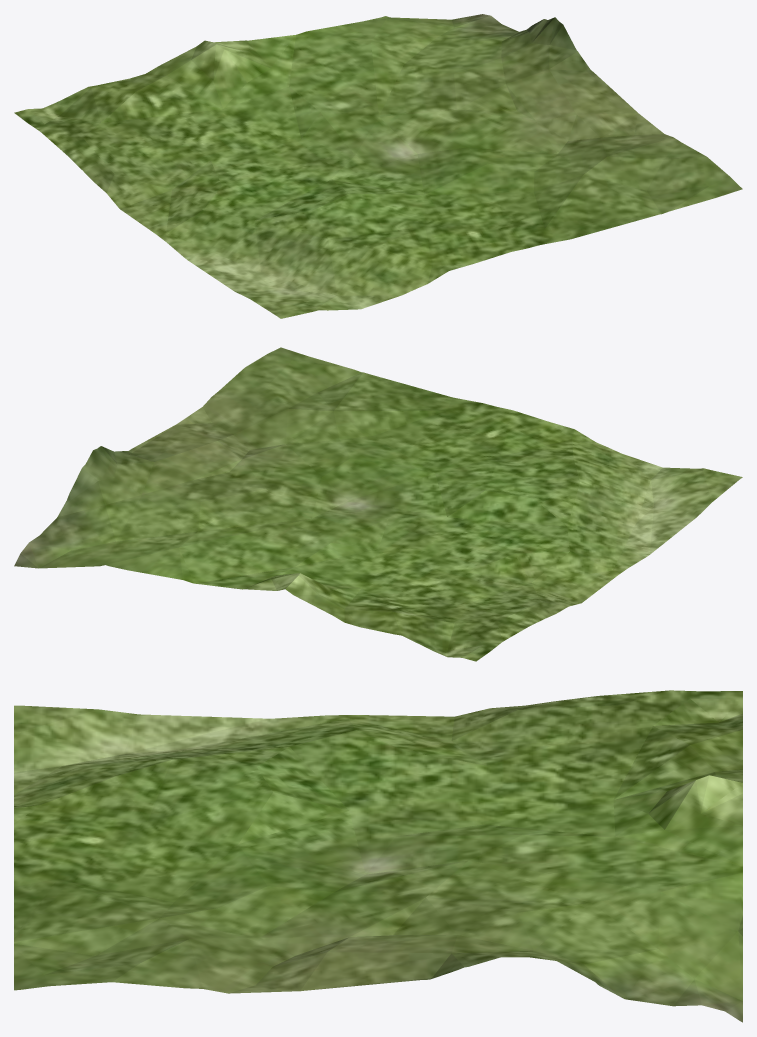
The picture shows the model from 3 angles, top to bottom: view 1: azimuth 30°, elevation 25°; view 2: azimuth 150°, elevation 25°; view 3: azimuth 270°, elevation 25°; orthographic projection. The views are drawn at different scales.
Bounding box in the file's own units: 2.95 × 0.3863 × 2.95.
Materials: 3 (3 with a texture image).
